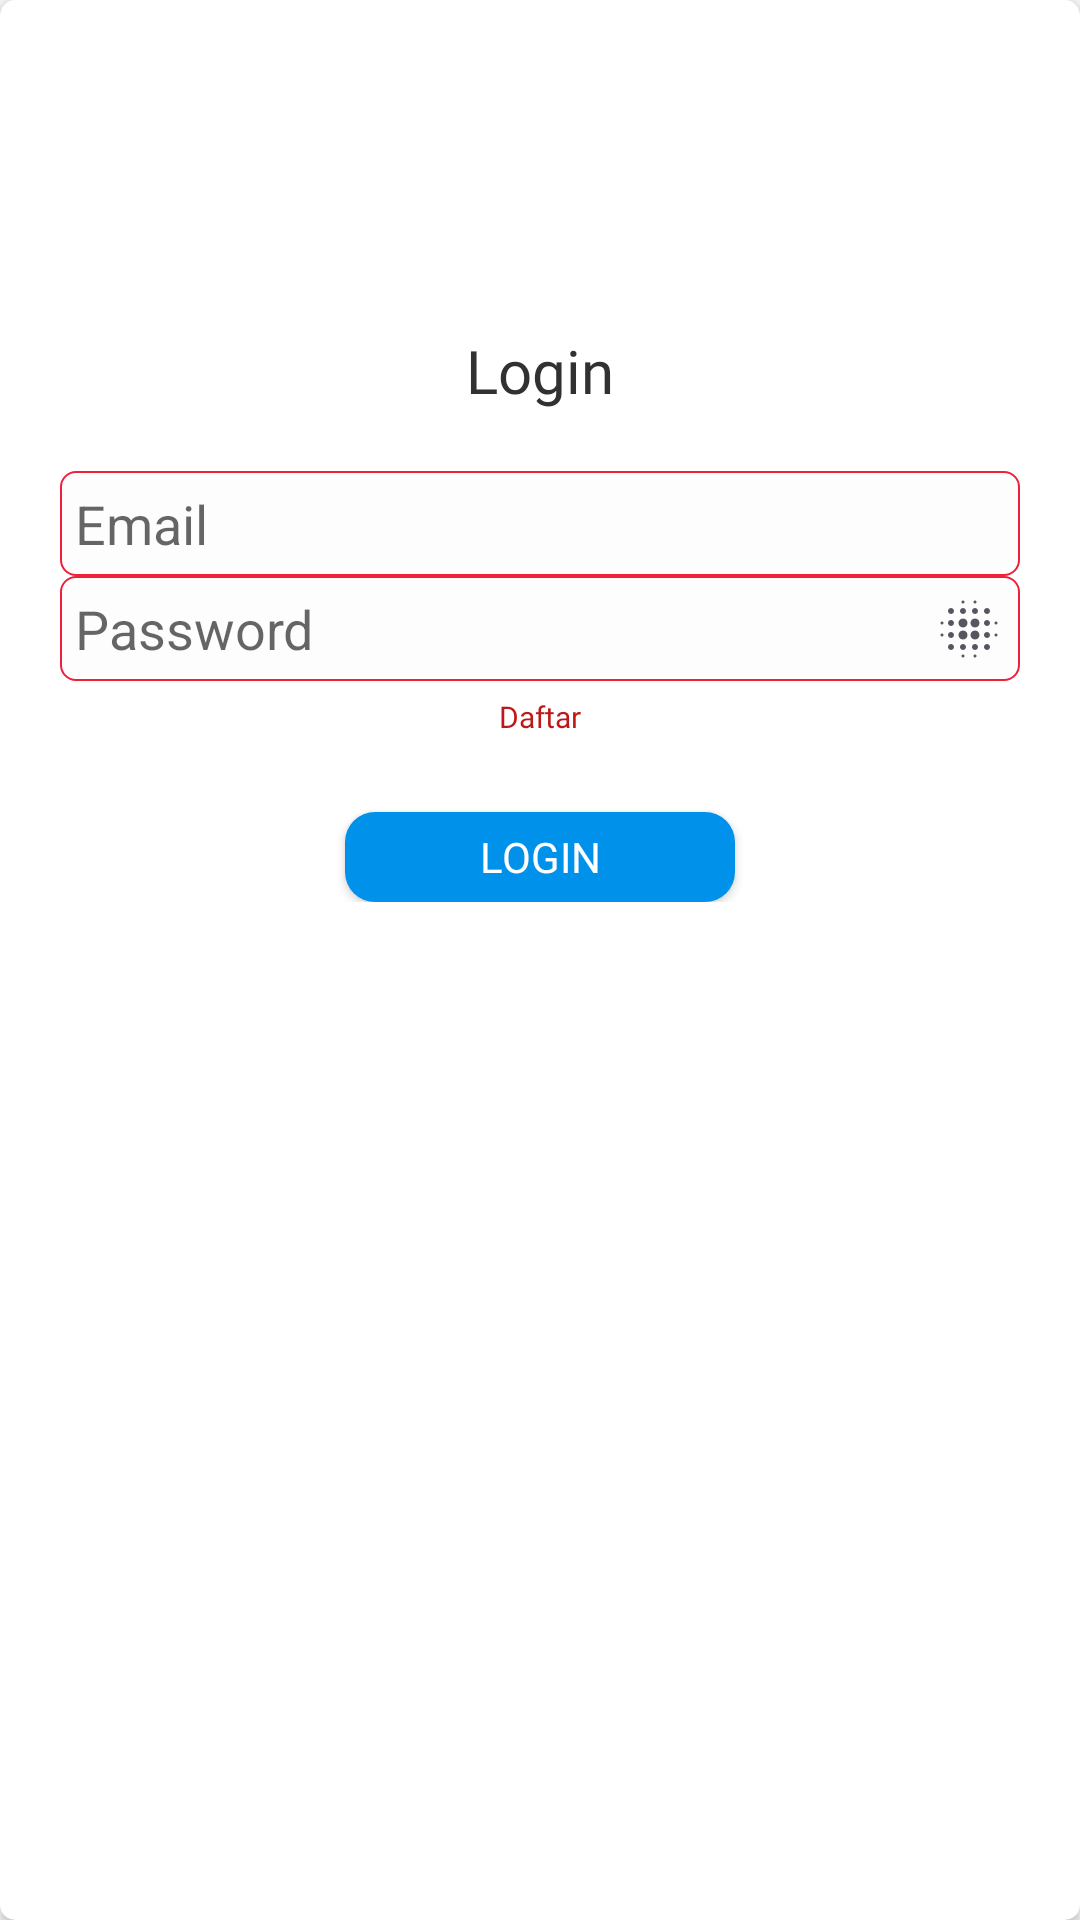

Locate icon controls on the screen. Image size 1080px×1920px, boxes as detection(x1, y1, x2, y2).
blur on: detection(940, 600, 998, 658)
